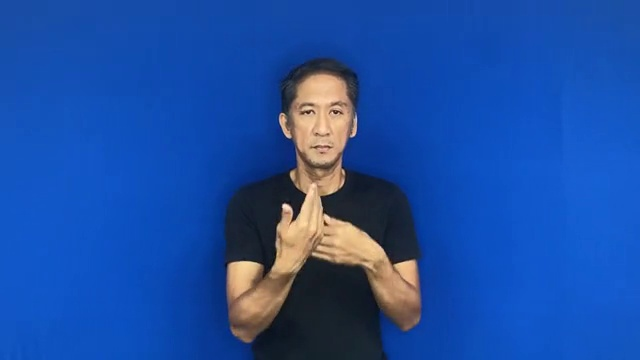bread: (269, 177, 388, 291)
